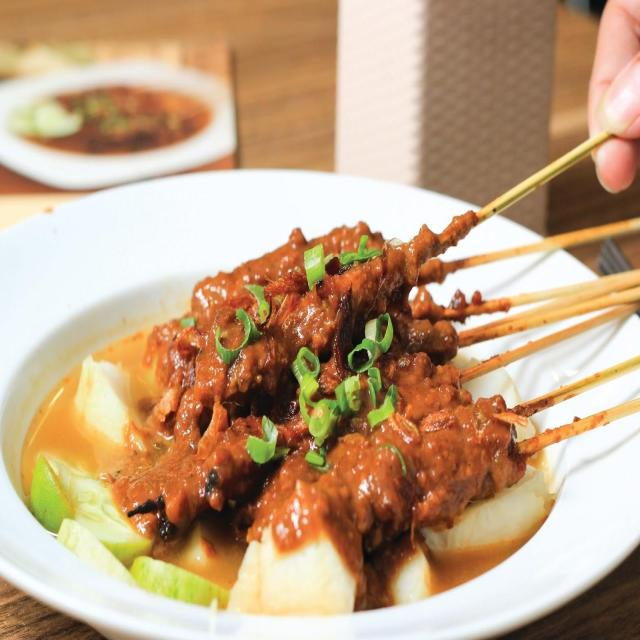Sate: (136, 177, 640, 585)
